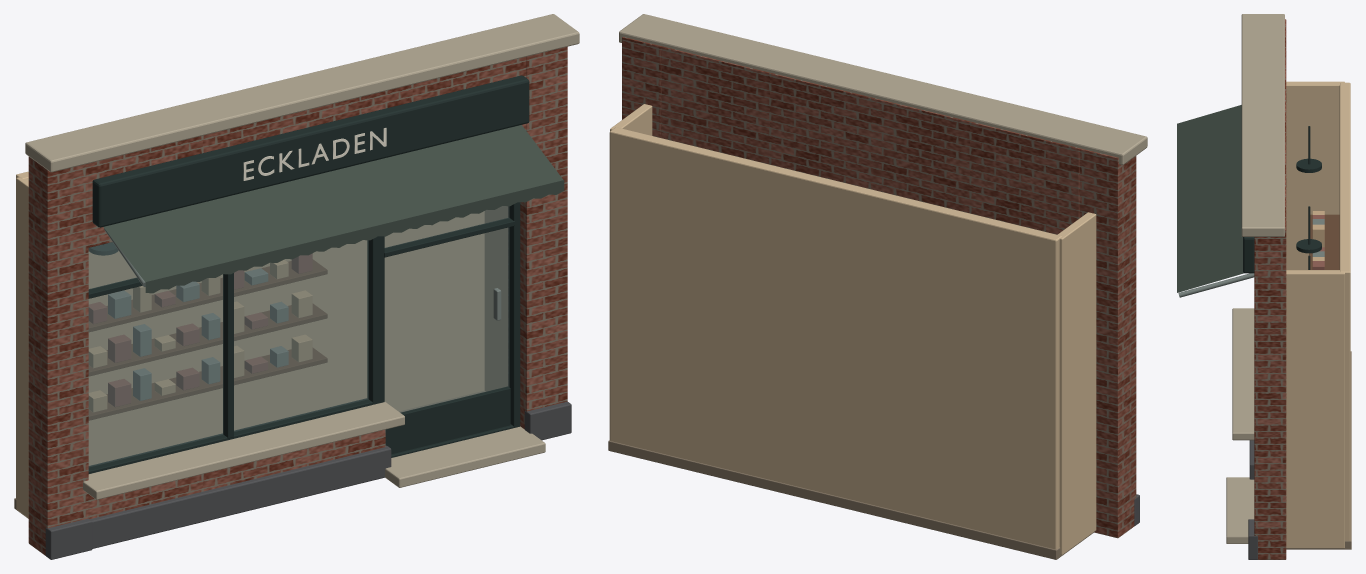
Rendered from Ladenfassade_Rheydt.glb.
3 views of the same model, side by side, from view 1: azimuth 30°, elevation 25°; view 2: azimuth 150°, elevation 25°; view 3: azimuth 270°, elevation 25° (orthographic). The views are drawn at different scales.
Parts seen in each view (by area): view 1: Schaufenster_Scheibe, Innenraum_Rueckwand, Markisentuch, Klinkerpfeiler_links, Tuer_Scheibe, Ladenblende, Kalksteinabschluss, Klinkerpfeiler_rechts, Sockelleiste, Fensterbank, Laeufersturz, Bruestung (+16 smaller); view 2: Innenraum_Rueckwand, Laeufersturz, Klinkerpfeiler_links, Kalksteinabschluss, Innenwand, Innenraum_Boden, Klinkerpfeiler_rechts, Innenwand.001; view 3: Innenwand.001, Markisentuch, Klinkerpfeiler_rechts, Kalksteinabschluss, Innenwand, Innenraum_Rueckwand, Fensterbank, Tritt, Regal.002, Innenraum_Boden, Markisenarm.001, Ladenblende (+6 smaller).
Part boxes in pixels (box(x1,y1,x2,y2)): Schaufenster_Scheibe: box(88, 240, 368, 466); Innenraum_Rueckwand: box(16, 171, 484, 498); Markisentuch: box(103, 125, 563, 281); Klinkerpfeiler_links: box(28, 156, 88, 555); Tuer_Scheibe: box(384, 206, 509, 412); Ladenblende: box(92, 75, 529, 227); Kalksteinabschluss: box(25, 14, 579, 172); Klinkerpfeiler_rechts: box(508, 46, 567, 428); Sockelleiste: box(90, 445, 391, 548); Fensterbank: box(83, 401, 404, 499); Laeufersturz: box(88, 56, 526, 247); Bruestung: box(88, 429, 385, 518); Innenraum_Rueckwand: box(609, 127, 1061, 549); Laeufersturz: box(661, 46, 1079, 234); Klinkerpfeiler_links: box(1079, 148, 1136, 538); Kalksteinabschluss: box(619, 14, 1147, 164); Innenwand: box(1057, 212, 1096, 554); Innenraum_Boden: box(608, 440, 1093, 559); Klinkerpfeiler_rechts: box(622, 37, 661, 137); Innenwand.001: box(610, 104, 652, 135); Innenwand.001: box(1286, 270, 1344, 548); Markisentuch: box(1177, 105, 1243, 292); Klinkerpfeiler_rechts: box(1254, 213, 1286, 559); Kalksteinabschluss: box(1241, 14, 1284, 236); Innenwand: box(1286, 81, 1344, 269); Innenraum_Rueckwand: box(1339, 82, 1350, 540); Fensterbank: box(1232, 308, 1254, 440); Tritt: box(1226, 477, 1254, 543); Regal.002: box(1309, 214, 1339, 269); Innenraum_Boden: box(1286, 351, 1351, 549); Markisenarm.001: box(1178, 273, 1254, 297); Ladenblende: box(1243, 237, 1254, 273).
Size of the model in its own units: 4.64 by 3.38 by 1.61.
14 materials, 1 textured.
